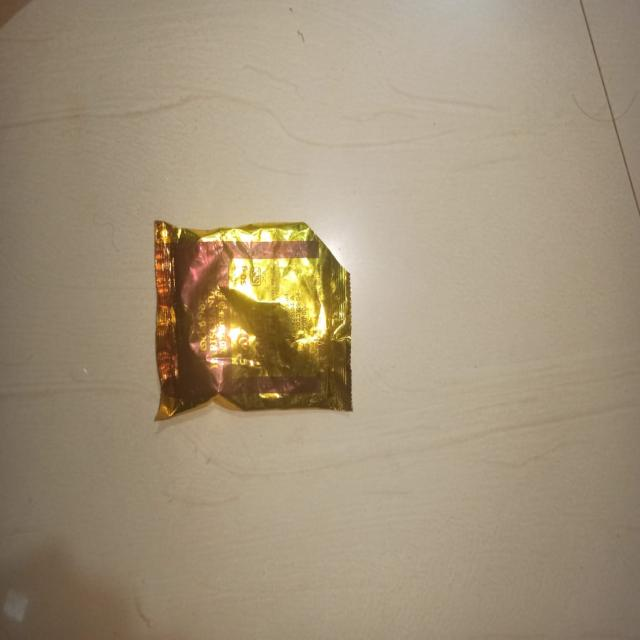Harischandra Coffee: (133, 206, 358, 460)
